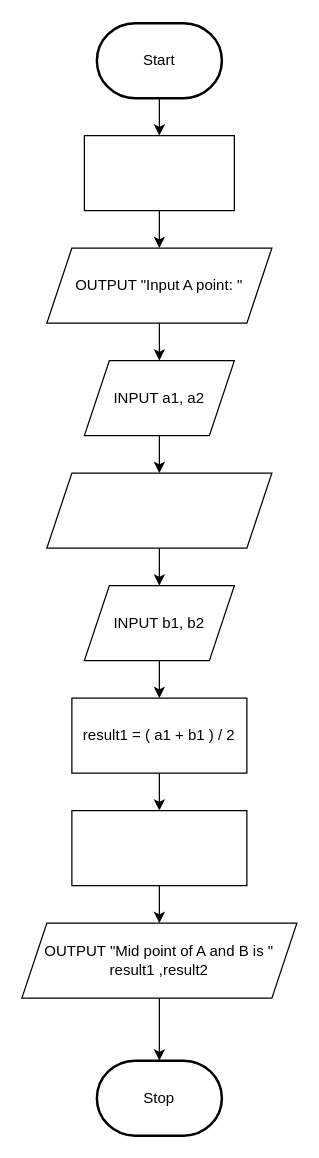
Image size: 319x1158. Some labels were removed from this diagram. The shapes that lost their labels are listed below. From the top down, each one's centre as x and y in pixels, then its label:
point (158, 172): a1, a2, b1, b2 = 0
point (159, 510): OUTPUT "Input B point: "
point (159, 847): result2 = ( a2 + b2 ) / 2
